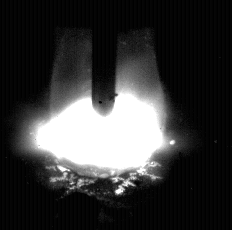arame: (92, 0, 117, 117)
poca: (49, 0, 168, 230)
